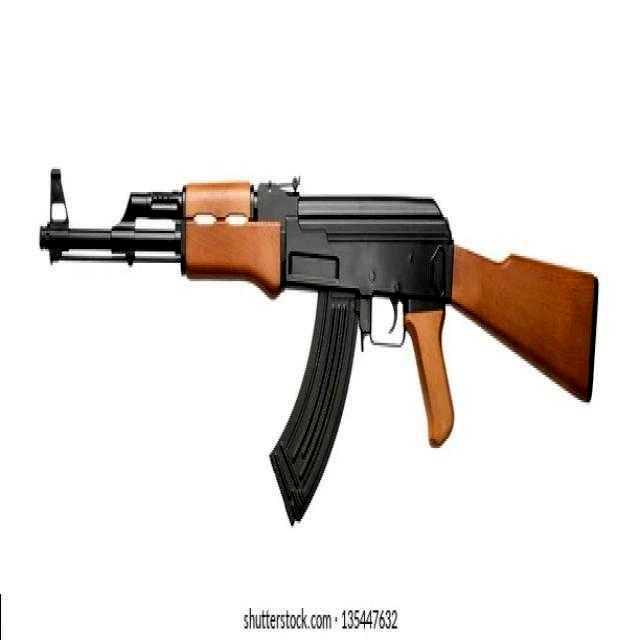ak: (42, 163, 600, 529)
